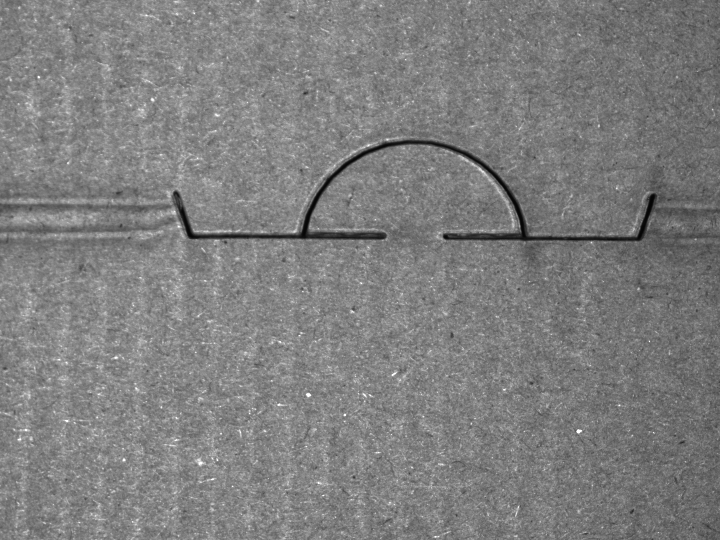cut1: (170, 134, 659, 247)
press1-1: (1, 190, 180, 247)
press1-2: (653, 196, 720, 251)
